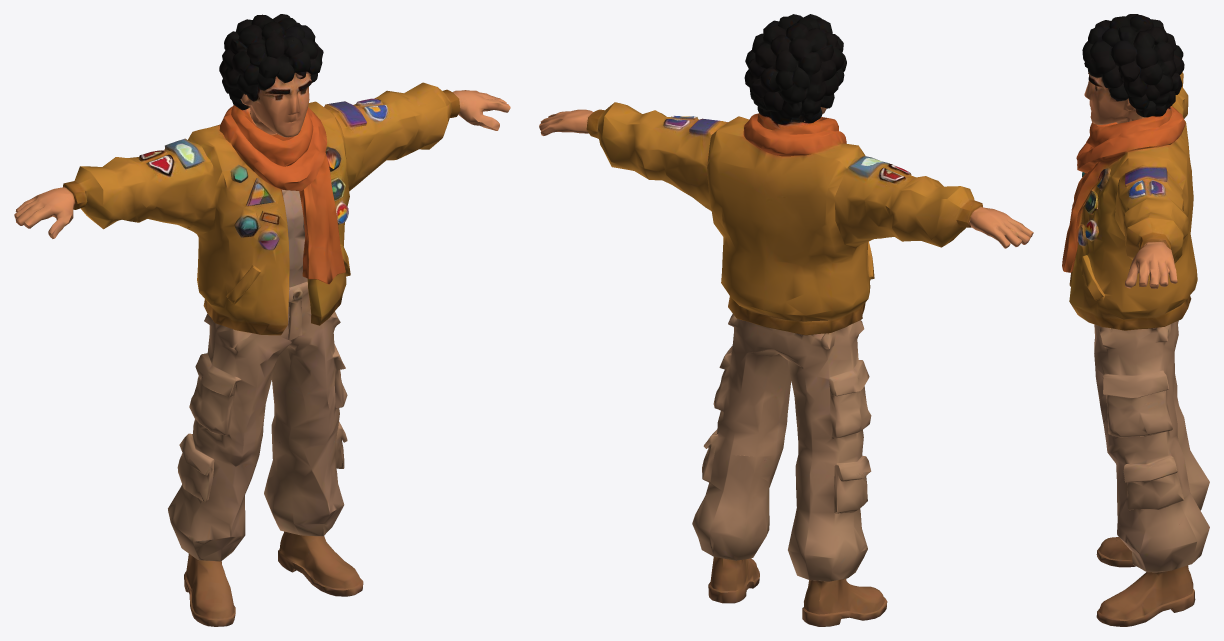
Rendered from char_iw_m_young_idle.glb.
3 renders of one model, left to right at view 1: azimuth 30°, elevation 25°; view 2: azimuth 150°, elevation 25°; view 3: azimuth 270°, elevation 25°, orthographic. The views are drawn at different scales.
Parts seen in each view (by area): view 1: tripo_node_e2d93589-b2c3-4341-b0f3-2bf068f622a2; view 2: tripo_node_e2d93589-b2c3-4341-b0f3-2bf068f622a2; view 3: tripo_node_e2d93589-b2c3-4341-b0f3-2bf068f622a2.
Part boxes in pixels (x1=…): tripo_node_e2d93589-b2c3-4341-b0f3-2bf068f622a2: x1=14, y1=14, x2=510, y2=626; tripo_node_e2d93589-b2c3-4341-b0f3-2bf068f622a2: x1=539, y1=14, x2=1033, y2=626; tripo_node_e2d93589-b2c3-4341-b0f3-2bf068f622a2: x1=1062, y1=14, x2=1209, y2=626.
Size of the model in its own units: 1.54 by 1.76 by 0.413.
Materials: 1 (1 with a texture image).
